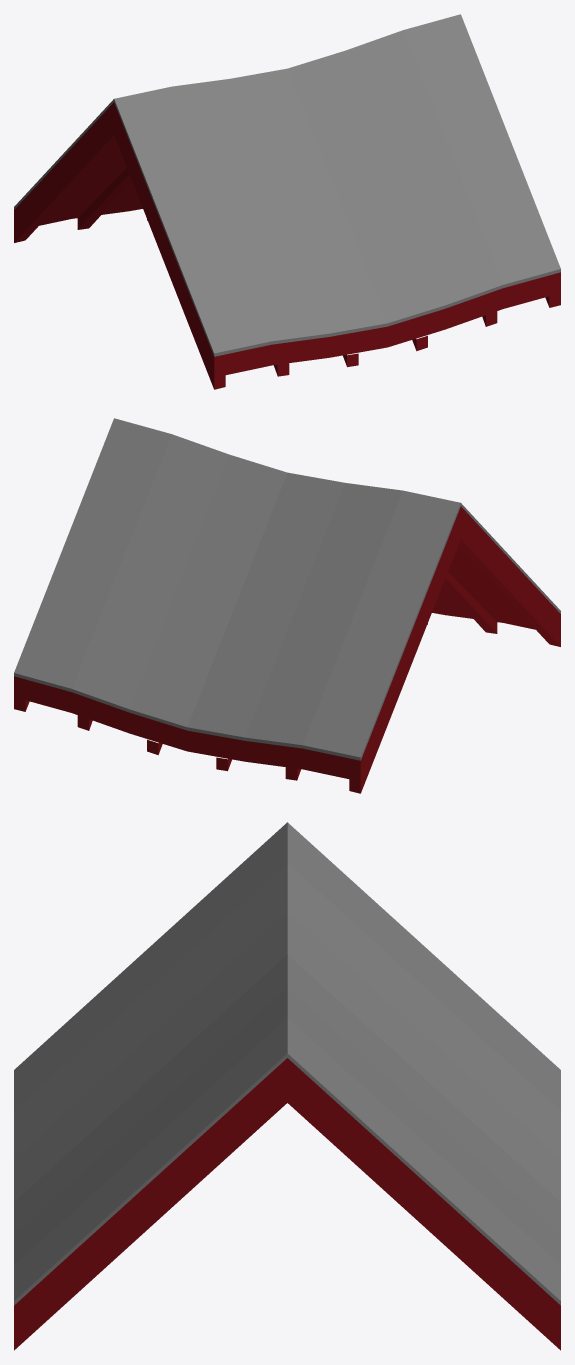
The model's file is SM_MH_01_Slate_Roof_Top_02.fbx.
The picture shows the model from 3 angles, top to bottom: view 1: azimuth 30°, elevation 25°; view 2: azimuth 150°, elevation 25°; view 3: azimuth 270°, elevation 25°; orthographic projection. The views are drawn at different scales.
Parts seen in each view (by area): view 1: SM_MH_01_Slate_Roof_Top_02_LOD0; view 2: SM_MH_01_Slate_Roof_Top_02_LOD0; view 3: SM_MH_01_Slate_Roof_Top_02_LOD0.
Part boxes in pixels (x1,y1,x2,y2): SM_MH_01_Slate_Roof_Top_02_LOD0: [14, 14, 560, 389]; SM_MH_01_Slate_Roof_Top_02_LOD0: [14, 418, 560, 793]; SM_MH_01_Slate_Roof_Top_02_LOD0: [14, 822, 560, 1350].
Size of what is drawn, in the model's own units: 300 by 189 by 300.
